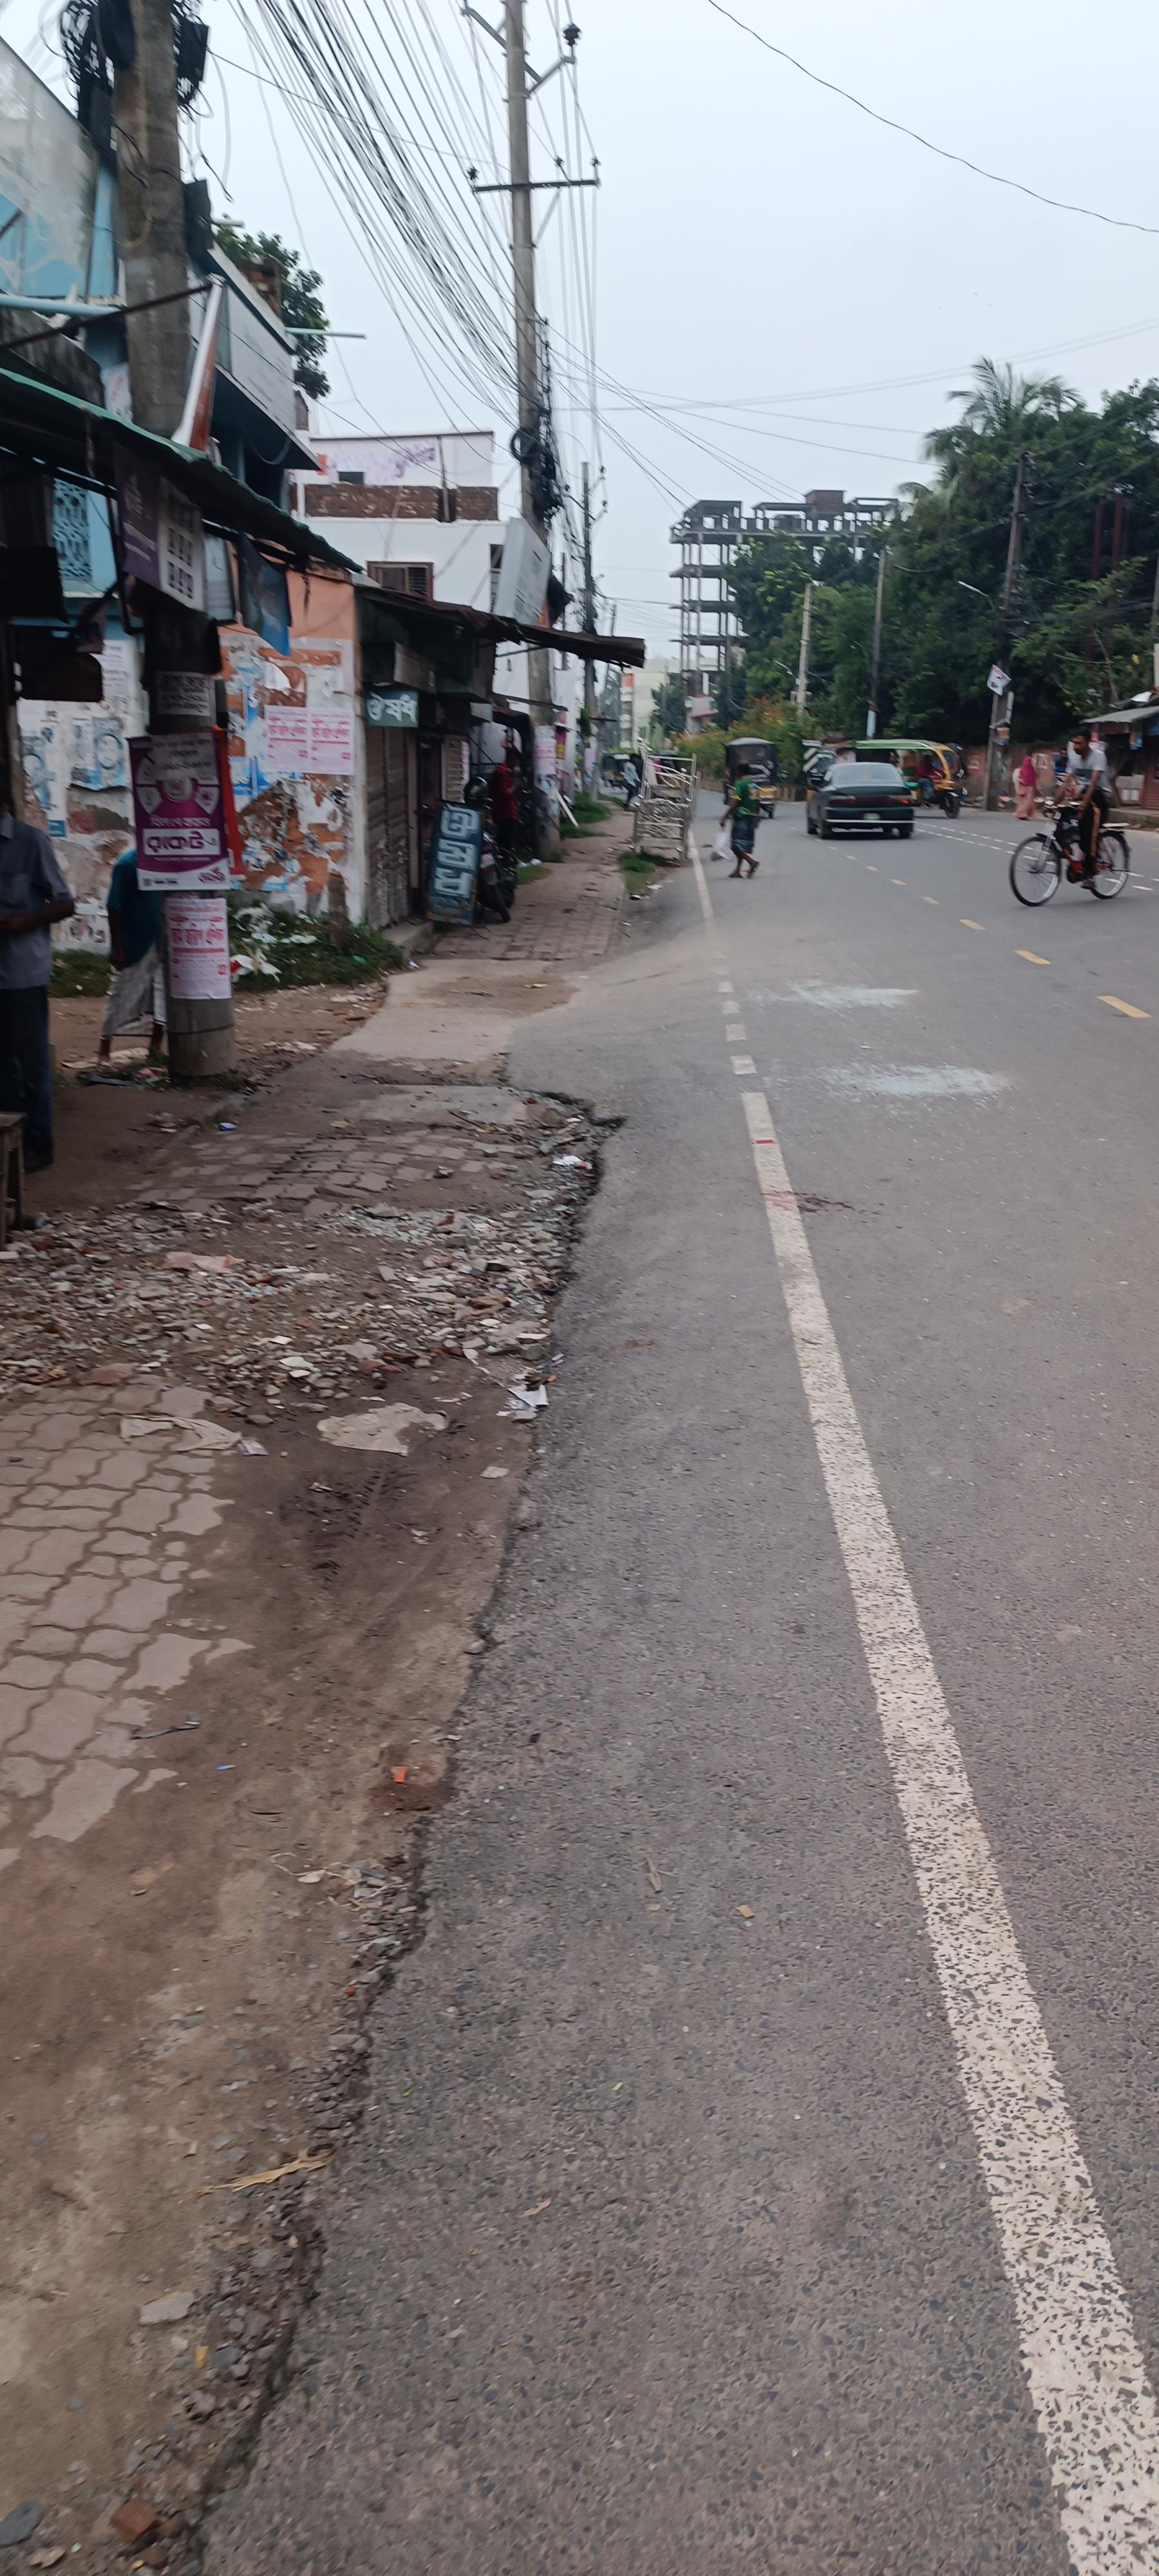Bollard: (102, 1101, 593, 1429)
Garbage-bin: (0, 805, 76, 1171), (95, 846, 169, 1071), (721, 761, 772, 877)
Light-pole: (117, 117, 315, 1068), (478, 77, 617, 624)
Pothole: (11, 784, 535, 2563)
Traffic-cone: (985, 703, 1159, 940)
